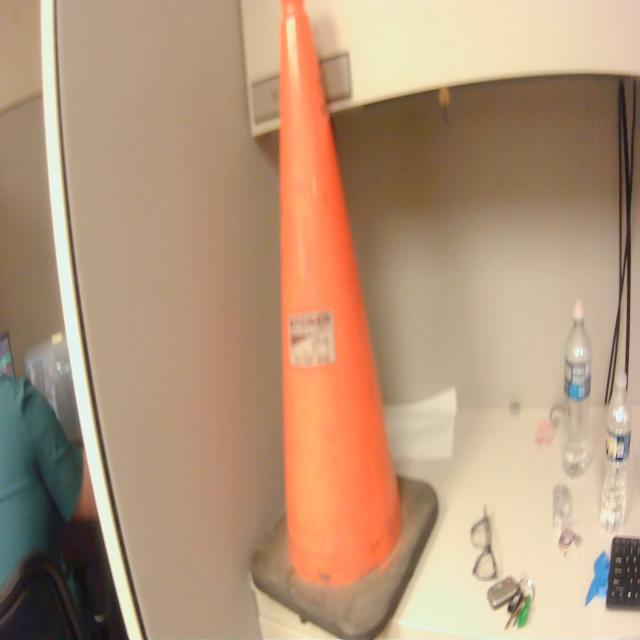traffic cone: (245, 3, 444, 640)
